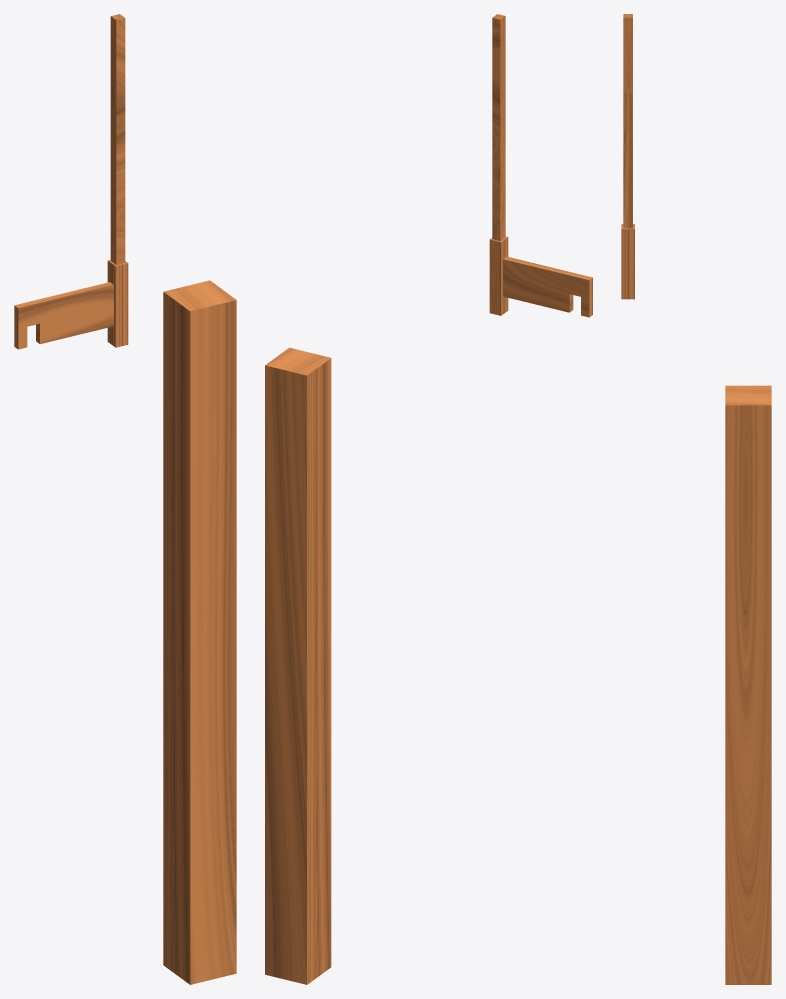
Rendered from buildig.003_wood_(light)_0_lev3.glb.
The picture shows the model from 3 angles, left to right: view 1: azimuth 30°, elevation 25°; view 2: azimuth 150°, elevation 25°; view 3: azimuth 270°, elevation 25°; orthographic projection. The views are drawn at different scales.
Visible parts, largest first — view 1: buildig.003_wood_(light)_0_lev3; view 2: buildig.003_wood_(light)_0_lev3; view 3: buildig.003_wood_(light)_0_lev3.
Part boxes in pixels (box(x1,y1,x2,y2)): buildig.003_wood_(light)_0_lev3: box(14, 14, 236, 984); buildig.003_wood_(light)_0_lev3: box(265, 14, 592, 984); buildig.003_wood_(light)_0_lev3: box(621, 14, 771, 984).
Bounding box in the file's own units: 0.134 × 0.4809 × 0.0732.
1 material, 1 textured.
